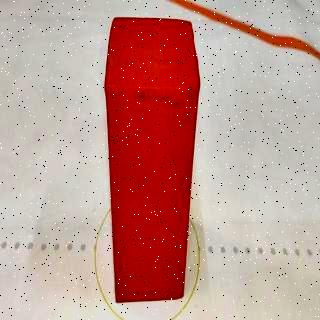redbox: (108, 15, 190, 303)
